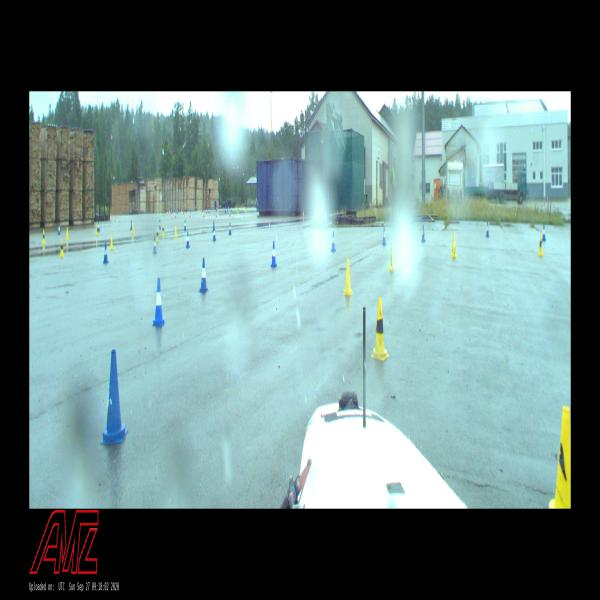blue_cone: (102, 349, 128, 443), (152, 278, 166, 326), (199, 258, 209, 292), (271, 241, 277, 267), (103, 242, 109, 264), (331, 232, 336, 252), (152, 235, 157, 253), (382, 226, 386, 246), (486, 220, 490, 238), (186, 231, 190, 248), (421, 225, 425, 242), (542, 225, 546, 241), (213, 227, 216, 241), (212, 219, 214, 232), (184, 219, 186, 231), (229, 223, 231, 235), (58, 224, 60, 235), (98, 221, 100, 232), (130, 219, 132, 230)
orange_cone: (229, 210, 231, 217)
yellow_cone: (548, 406, 570, 508), (372, 297, 389, 360), (343, 257, 353, 295), (388, 246, 395, 272), (538, 234, 544, 256), (451, 236, 456, 258), (156, 227, 160, 243), (60, 239, 63, 257), (174, 226, 178, 238), (42, 229, 45, 244), (110, 234, 113, 249), (66, 227, 69, 241), (162, 224, 165, 237), (95, 224, 98, 236), (244, 205, 246, 212), (133, 223, 134, 234), (238, 207, 239, 214)
